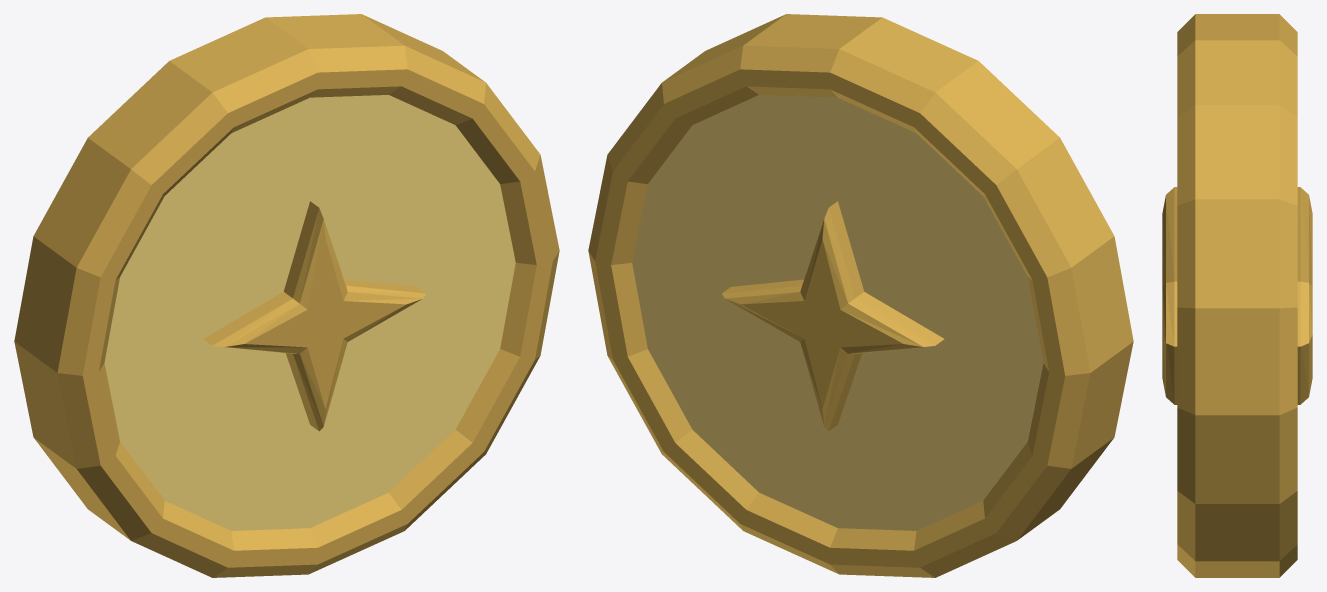
Rendered from game-ui-icon-library-coin-adb2c774__18965.glb.
The picture shows the model from 3 angles, left to right: view 1: azimuth 30°, elevation 25°; view 2: azimuth 150°, elevation 25°; view 3: azimuth 270°, elevation 25°; orthographic projection. The views are drawn at different scales.
Visible parts, largest first — view 1: coin; view 2: coin; view 3: coin.
Part boxes in pixels (x1,y1,x2,y2): coin: (14,14,559,577); coin: (588,14,1133,577); coin: (1162,14,1312,577).
Bounding box in the file's own units: 0.94 × 0.94 × 0.25.
